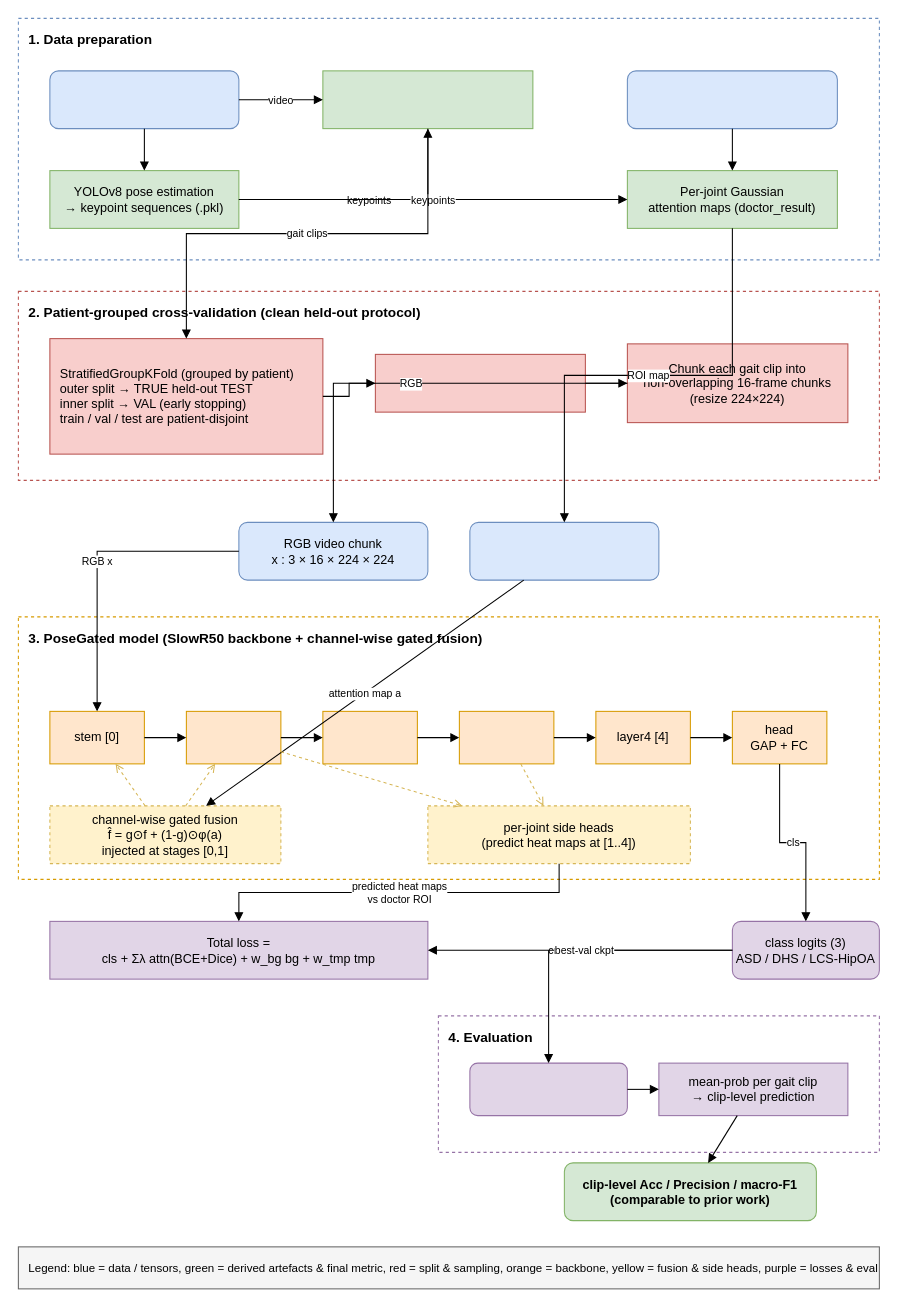
Some shapes in this 898 by 1307 pixel diagram are drawn without their labels. Each missing label, with the centre of its shape:
"Clinical attention map a : 1 × 16 × 224 × 224" belongs at pixel 564 550.
"Clinician ROI annotation (lumbar, pelvis, head, shoulder)" belongs at pixel 731 99.
"Gait-cycle segmentation → gait clips (json_mix, ~1,954)" belongs at pixel 427 99.
"layer1 [1]" belongs at pixel 233 737.
"layer2 [2]" belongs at pixel 369 737.
"layer3 [3]" belongs at pixel 506 737.
"Monocular gait video (side view, ~30 fps, 1080p)" belongs at pixel 144 99.
"Over-sample TRAIN only (val / test left natural)" belongs at pixel 479 382.
"per-chunk softmax (held-out TEST)" belongs at pixel 548 1089.
